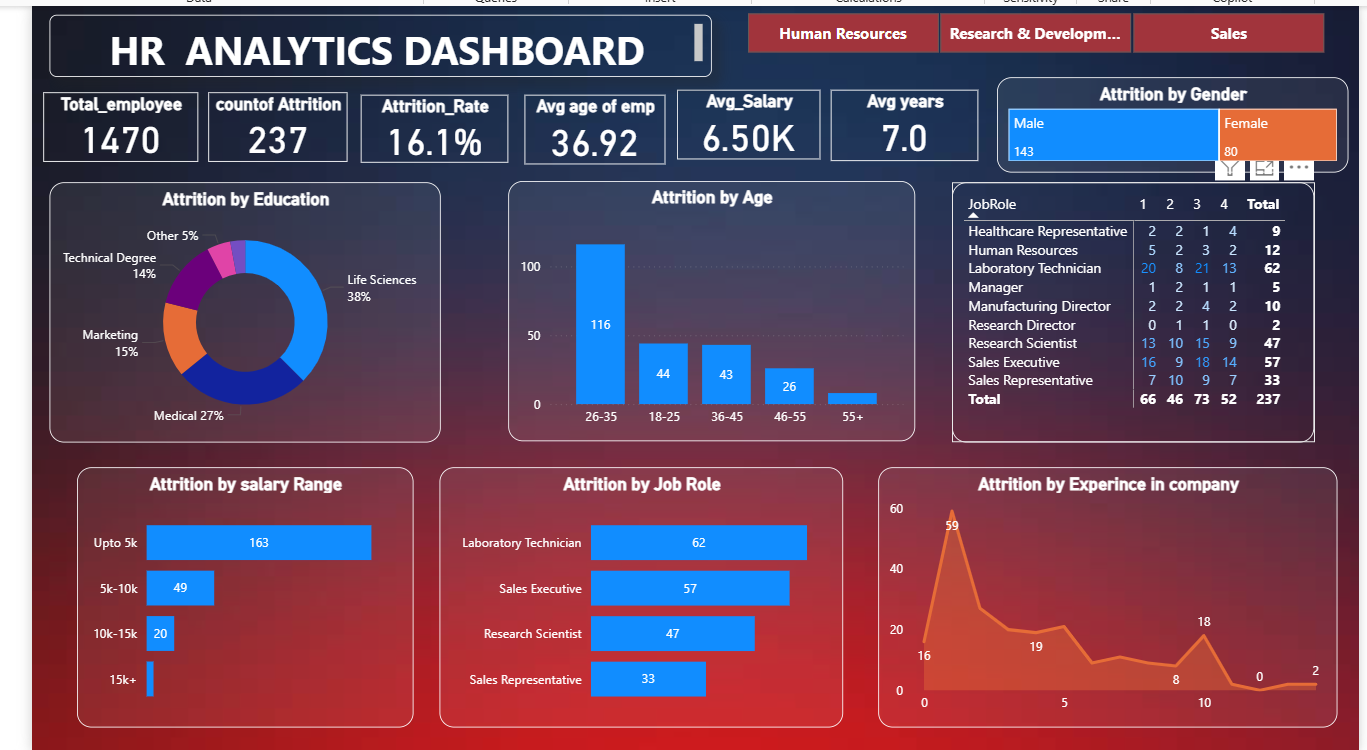

The dashboard page shown, as its layout file describes it:
{"tool":"powerbi","page":{"name":"Page 1","canvas":[1280,720],"ordinal":0},"visuals":[{"type":"card","title":"Total_employee","fields":{"Values":["CountNonNull(HR_Analytics (1).EmpID)"]},"box":[11,83.7,149.6,67.2],"z":0},{"type":"card","title":"countof Attrition","fields":{"Values":["Sum(HR_Analytics (1).attrition_count)"]},"box":[170.2,83.7,134.5,67.2],"z":1000},{"type":"card","title":"Attrition_Rate","fields":{"Values":["HR_Analytics (1).attrition _rate"]},"box":[317,85.1,142.7,65.9],"z":2000},{"type":"card","title":"Avg age of emp","fields":{"Values":["Avg(HR_Analytics (1).Age)"]},"box":[474.8,85.1,135.8,67.2],"z":3000},{"type":"card","title":"Avg_Salary","fields":{"Values":["Avg(HR_Analytics (1).MonthlyIncome)"]},"box":[623,81,138.6,67.2],"z":4000},{"type":"card","title":"Avg years","fields":{"Values":["Avg(HR_Analytics (1).YearsAtCompany)"]},"box":[771.2,81,142.7,68.6],"z":5000},{"type":"donutChart","title":"Attrition by Education","fields":{"Category":["HR_Analytics (1).EducationField"],"Y":["Sum(HR_Analytics (1).attrition_count)"]},"box":[16.9,170.1,377.6,250.9],"z":6000},{"type":"clusteredColumnChart","title":"Attrition by Age","fields":{"Category":["HR_Analytics (1).AgeGroup"],"Y":["Sum(HR_Analytics (1).attrition_count)"]},"box":[459.7,168.8,392.5,251.1],"z":7000},{"type":"pivotTable","fields":{"Rows":["HR_Analytics (1).JobRole"],"Columns":["HR_Analytics (1).JobSatisfaction"],"Values":["Sum(HR_Analytics (1).attrition_count)"]},"box":[887.8,170.2,349.9,251.1],"z":8000},{"type":"barChart","title":"Attrition by salary Range","fields":{"Category":["HR_Analytics (1).SalarySlab"],"Y":["Sum(HR_Analytics (1).attrition_count)"]},"box":[43.4,445.2,324.5,250.9],"z":9000},{"type":"barChart","title":"Attrition by Job Role","fields":{"Y":["Sum(HR_Analytics (1).attrition_count)"],"Category":["HR_Analytics (1).JobRole"]},"box":[393.8,444.6,389.7,251.1],"z":10000},{"type":"areaChart","title":"Attrition by Experince in company","fields":{"Y":["Sum(HR_Analytics (1).attrition_count)"],"Category":["HR_Analytics (1).YearsAtCompany"]},"box":[816.5,444.6,443.2,251.1],"z":11000},{"type":"treemap","title":"Attrition by Gender","fields":{"Group":["HR_Analytics (1).Gender"],"Values":["Sum(HR_Analytics (1).attrition_count)"]},"box":[931.7,68.6,338.9,91.9],"z":12000},{"type":"slicer","fields":{"Values":["HR_Analytics (1).Department"]},"box":[664.2,0,606.5,52.1],"z":13000},{"type":"textbox","box":[16.9,8.4,639.4,60.3],"z":14000}]}

Visuals, with their boxes in screenshot pixels (x1, y1, x2, y2):
"Total_employee" card: {"left": 26, "top": 82, "right": 186, "bottom": 154}
"countof Attrition" card: {"left": 196, "top": 82, "right": 339, "bottom": 154}
"Attrition_Rate" card: {"left": 352, "top": 84, "right": 505, "bottom": 154}
"Avg age of emp" card: {"left": 521, "top": 84, "right": 666, "bottom": 155}
"Avg_Salary" card: {"left": 679, "top": 79, "right": 827, "bottom": 151}
"Avg years" card: {"left": 837, "top": 79, "right": 989, "bottom": 152}
"Attrition by Education" donutChart: {"left": 32, "top": 174, "right": 435, "bottom": 442}
"Attrition by Age" clusteredColumnChart: {"left": 505, "top": 173, "right": 923, "bottom": 441}
pivotTable - HR_Analytics (1).JobRole x HR_Analytics (1).JobSatisfaction: {"left": 961, "top": 174, "right": 1334, "bottom": 442}
"Attrition by salary Range" barChart: {"left": 61, "top": 468, "right": 407, "bottom": 735}
"Attrition by Job Role" barChart: {"left": 434, "top": 467, "right": 850, "bottom": 735}
"Attrition by Experince in company" areaChart: {"left": 885, "top": 467, "right": 1358, "bottom": 735}
"Attrition by Gender" treemap: {"left": 1008, "top": 66, "right": 1366, "bottom": 164}
slicer - HR_Analytics (1).Department: {"left": 723, "top": 0, "right": 1366, "bottom": 48}
textbox: {"left": 32, "top": 2, "right": 714, "bottom": 66}
